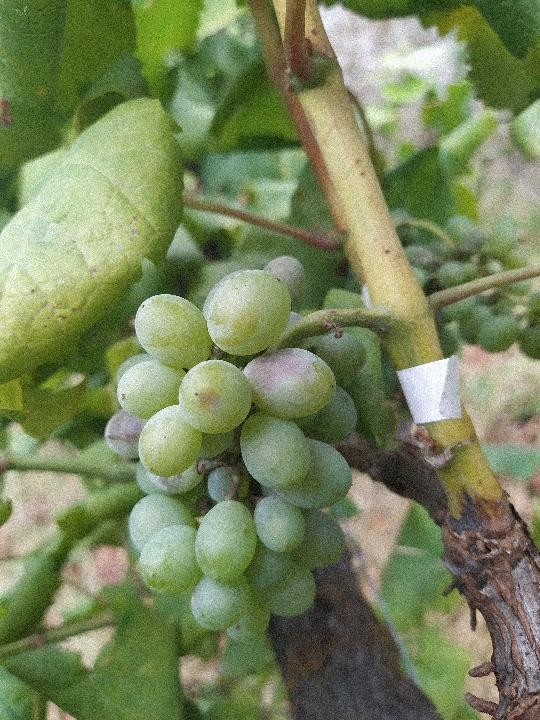grape: (99, 258, 374, 648)
